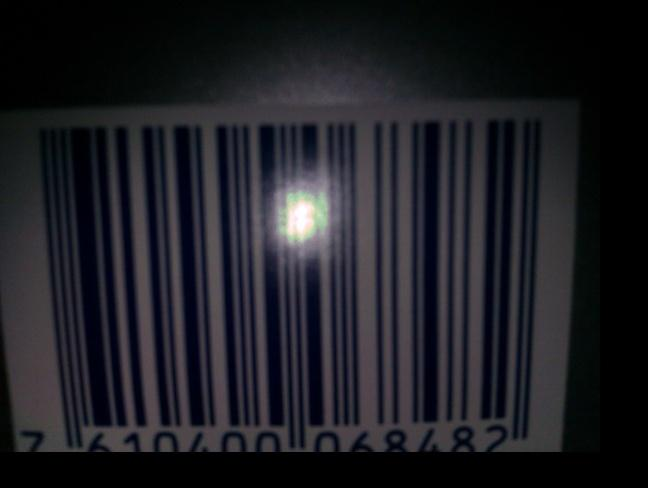Barcode: (15, 113, 549, 454)
